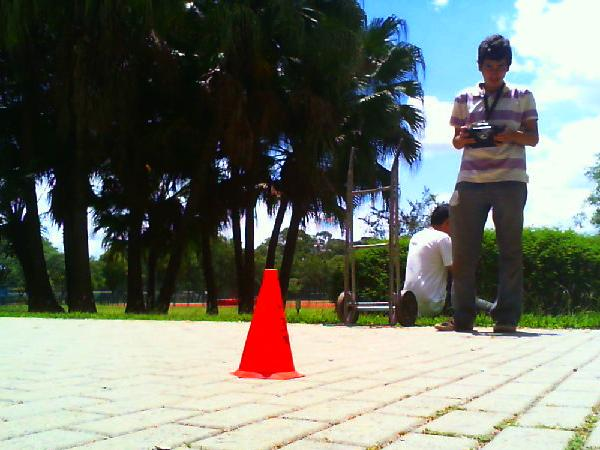0 cone: (232, 268, 303, 379)
